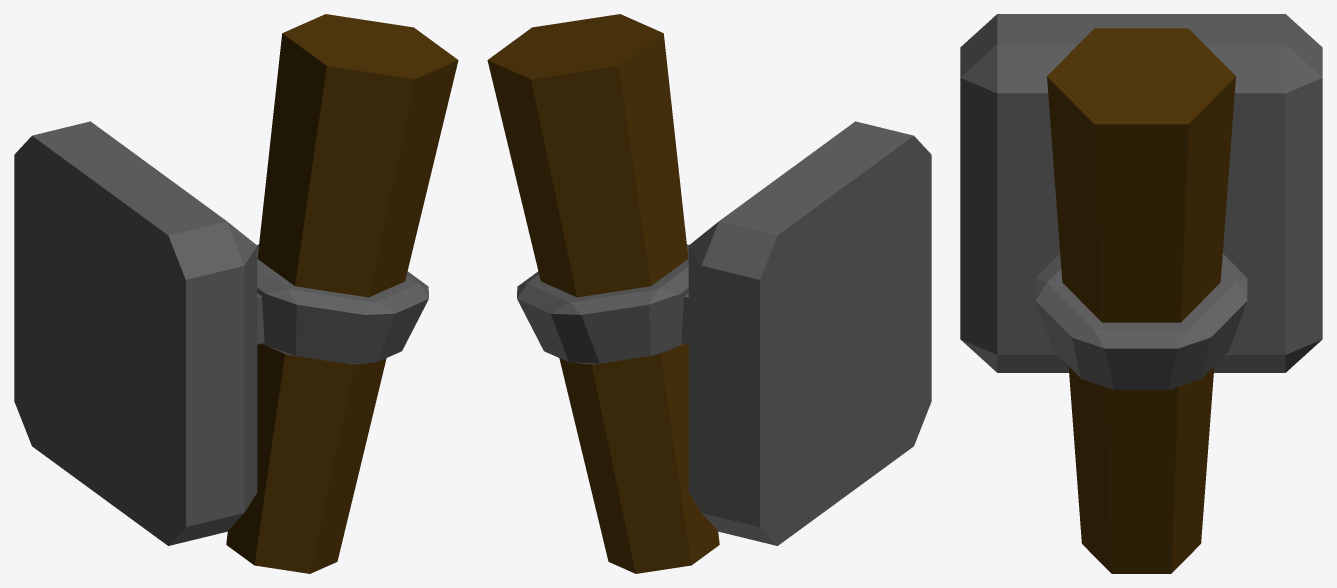
Rendered from torch.fbx.
3 views of the same model, side by side, from view 1: azimuth 30°, elevation 25°; view 2: azimuth 150°, elevation 25°; view 3: azimuth 270°, elevation 25° (orthographic). The views are drawn at different scales.
Parts seen in each view (by area): view 1: torch; view 2: torch; view 3: torch.
Part boxes in pixels (left/top/right/bottom): torch: left=14, top=14, right=458, bottom=573; torch: left=487, top=14, right=931, bottom=573; torch: left=960, top=14, right=1322, bottom=573.
Bounding box in the file's own units: 40.05 × 57.69 × 35.38.
